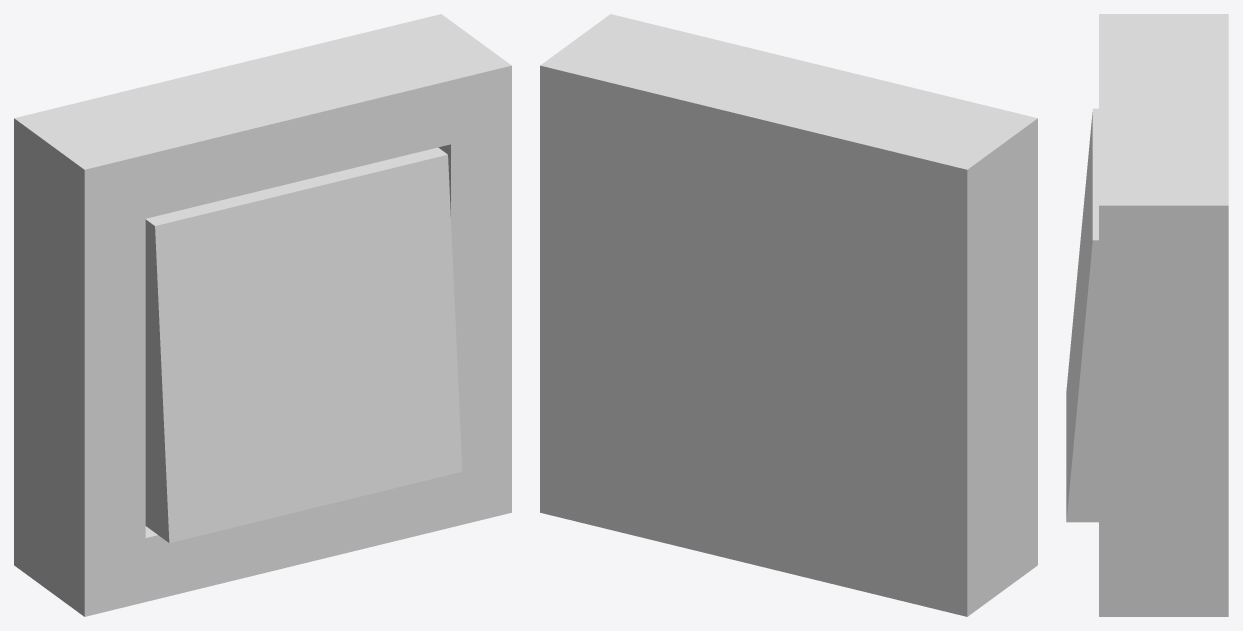
File: Interruptor.fbx
3 views of the same model, side by side, from view 1: azimuth 30°, elevation 25°; view 2: azimuth 150°, elevation 25°; view 3: azimuth 270°, elevation 25° (orthographic). The views are drawn at different scales.
Visible parts, largest first — view 1: Box001; view 2: Box001; view 3: Box001.
Boxes of the visible parts, x1,y1,x2,y2 form: Box001: (14, 14, 511, 616); Box001: (540, 14, 1037, 616); Box001: (1066, 14, 1228, 616).
Bounding box in the file's own units: 7 × 7 × 2.5.
